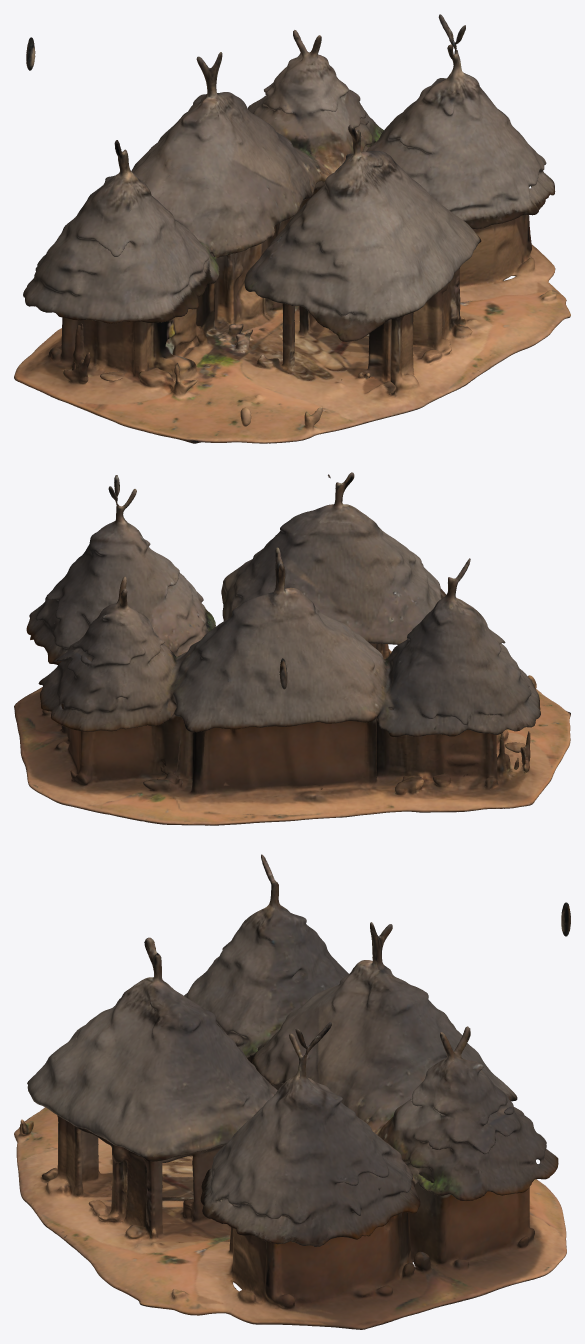
Rendered from Strong_and_large_afri_0303183726_texture.fbx.
3 renders of one model, top to bottom at view 1: azimuth 30°, elevation 25°; view 2: azimuth 150°, elevation 25°; view 3: azimuth 270°, elevation 25°, orthographic. The views are drawn at different scales.
Visible parts, largest first — view 1: Mesh1_Mesh1.006; view 2: Mesh1_Mesh1.006; view 3: Mesh1_Mesh1.006.
Boxes of the visible parts, x1=… form: Mesh1_Mesh1.006: x1=14, y1=14, x2=570, y2=443; Mesh1_Mesh1.006: x1=14, y1=472, x2=570, y2=825; Mesh1_Mesh1.006: x1=14, y1=854, x2=570, y2=1329.
Size of the model in its own units: 200 by 89.79 by 171.
1 material, 1 textured.
